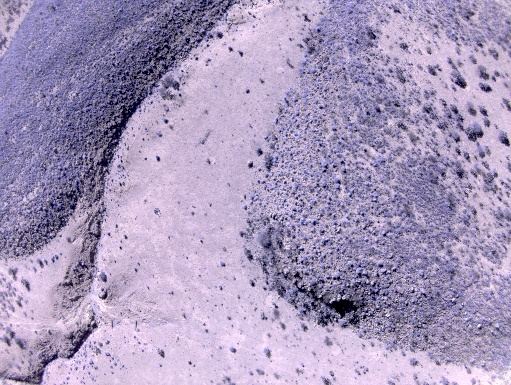agave: (331, 273, 342, 281), (333, 183, 342, 191), (301, 220, 311, 227), (370, 194, 378, 202), (309, 280, 317, 288), (299, 257, 308, 264), (294, 121, 301, 130), (378, 261, 384, 270), (418, 269, 424, 278), (331, 149, 341, 154), (249, 195, 256, 202), (318, 208, 325, 215), (365, 173, 372, 180), (318, 103, 325, 110), (333, 126, 340, 133), (379, 147, 386, 154), (59, 170, 66, 177), (340, 166, 348, 172), (378, 159, 386, 165), (294, 108, 300, 116), (161, 43, 169, 49), (273, 155, 278, 164), (376, 318, 381, 327), (321, 161, 328, 167), (356, 269, 362, 276), (146, 64, 153, 70), (291, 98, 299, 103), (275, 189, 281, 195), (321, 181, 327, 187), (302, 175, 308, 181), (357, 332, 363, 338), (360, 278, 366, 284), (74, 181, 80, 187), (160, 60, 166, 66), (146, 44, 152, 50), (302, 237, 309, 242), (244, 204, 249, 211), (318, 255, 323, 262), (347, 128, 354, 133), (348, 262, 353, 269), (148, 11, 155, 16), (302, 89, 310, 93), (335, 177, 341, 182), (347, 193, 352, 199), (362, 328, 367, 334), (374, 330, 380, 335), (341, 247, 346, 253), (414, 332, 420, 337), (178, 28, 183, 34), (302, 99, 309, 103), (265, 173, 270, 178), (51, 201, 56, 206), (291, 207, 297, 211), (321, 228, 325, 234), (277, 128, 283, 132), (301, 94, 308, 97), (314, 221, 318, 226), (322, 266, 326, 271), (299, 160, 304, 164), (257, 180, 261, 184)
